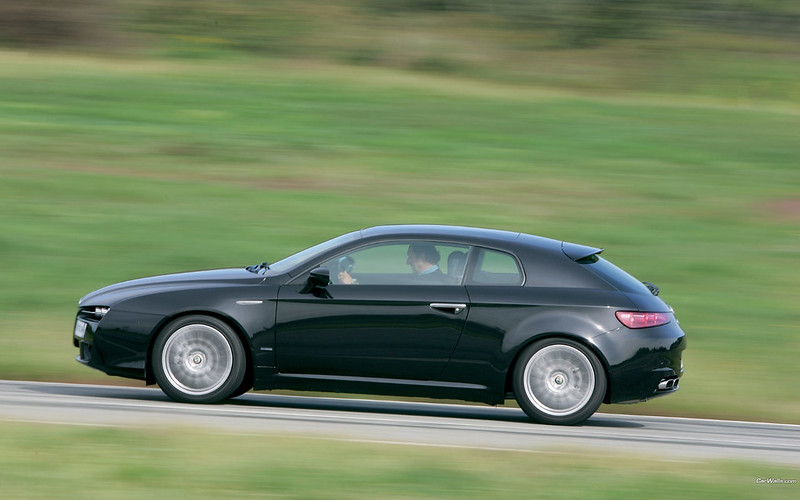car: (82, 189, 683, 429)
